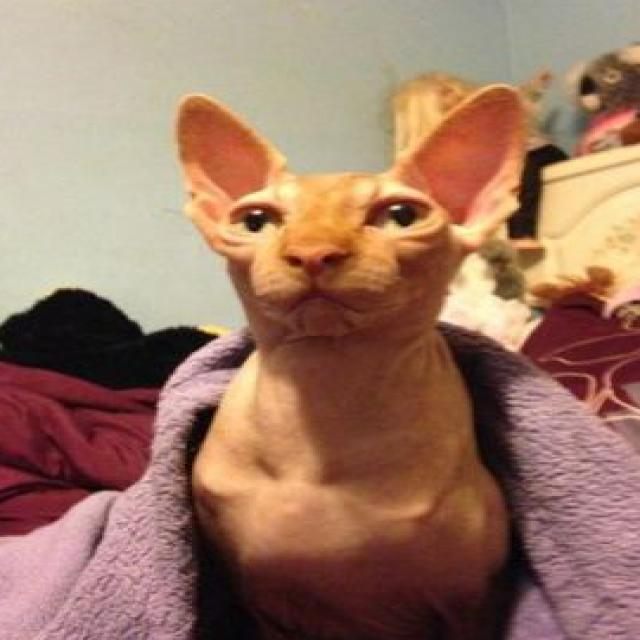Sphynx: (164, 82, 534, 640)
